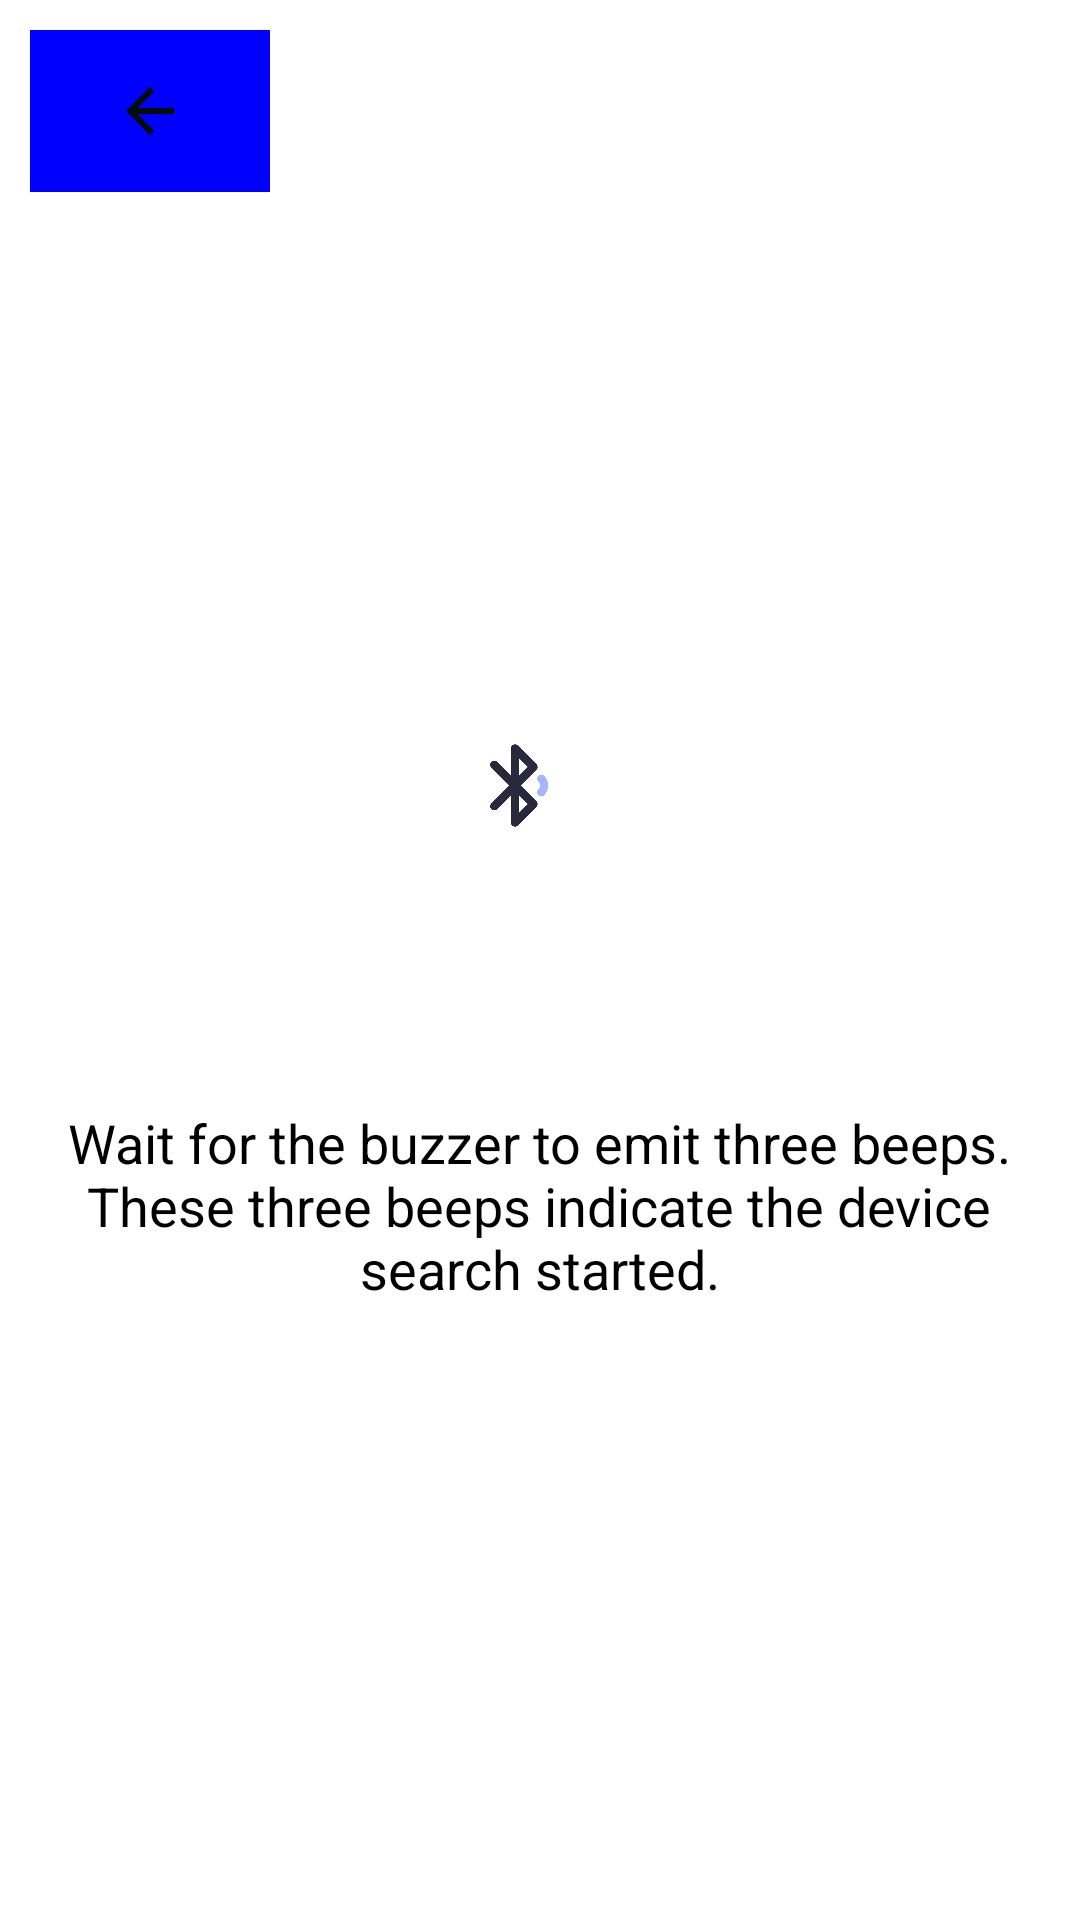

Where to tap for icons on this 1080x1920 app screen, as (x=x, y=y):
arrow back: (x=150, y=111)
